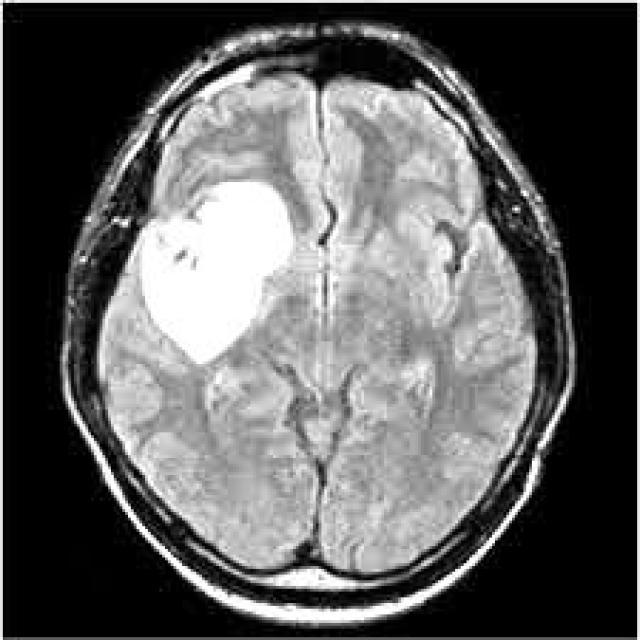brain tumor: (137, 188, 293, 367)
